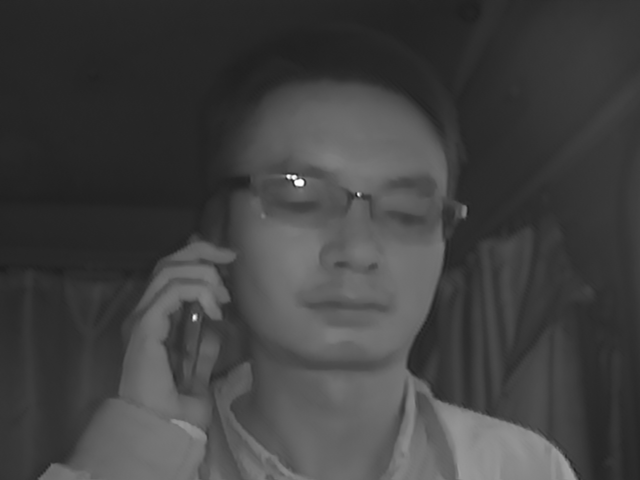hand: (113, 237, 239, 427)
